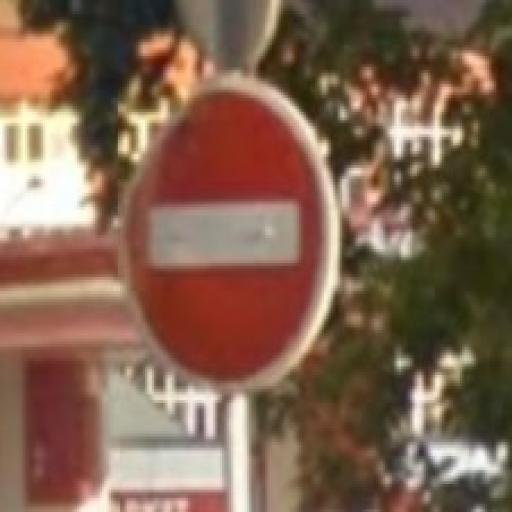traffic_sign: (119, 77, 343, 396)
